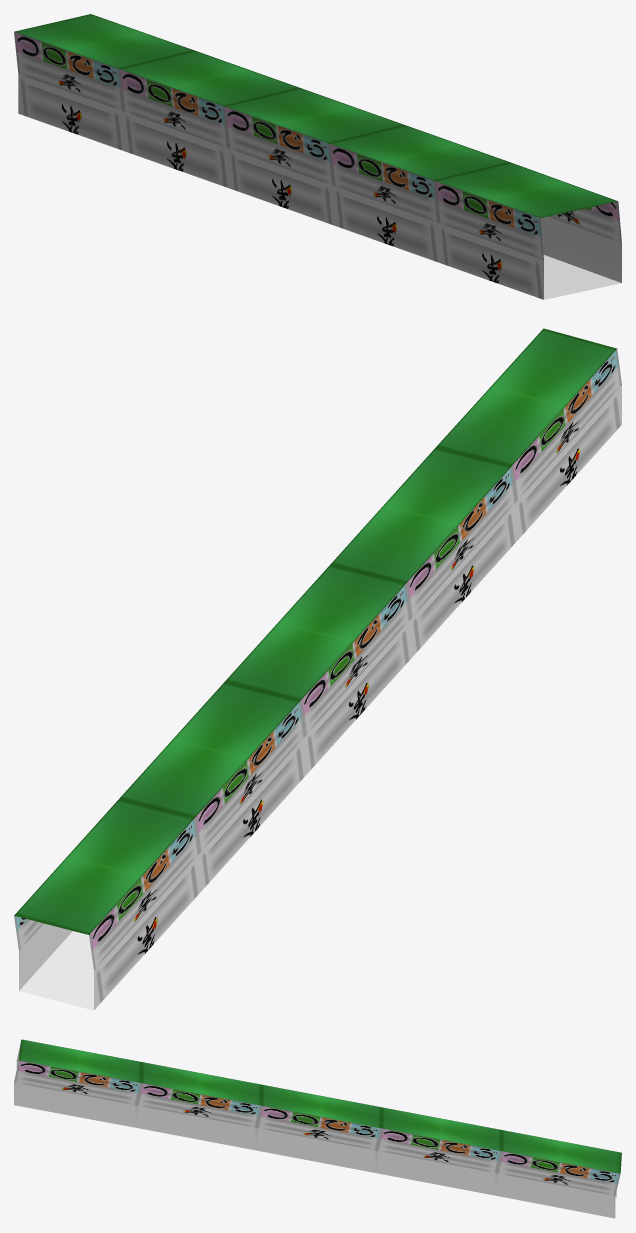
File: CourseAki_Wall_R_5.fbx
The picture shows the model from 3 angles, top to bottom: view 1: azimuth 30°, elevation 25°; view 2: azimuth 150°, elevation 25°; view 3: azimuth 270°, elevation 25°; orthographic projection. The views are drawn at different scales.
Parts seen in each view (by area): view 1: polySurface298; view 2: polySurface298; view 3: polySurface298.
Boxes of the visible parts, bbox=[...] form: polySurface298: bbox=[14, 14, 621, 299]; polySurface298: bbox=[14, 328, 621, 1010]; polySurface298: bbox=[14, 1039, 621, 1218].
Bounding box in the file's own units: 2.01 × 6.98 × 24.32.
1 material, 1 textured.
